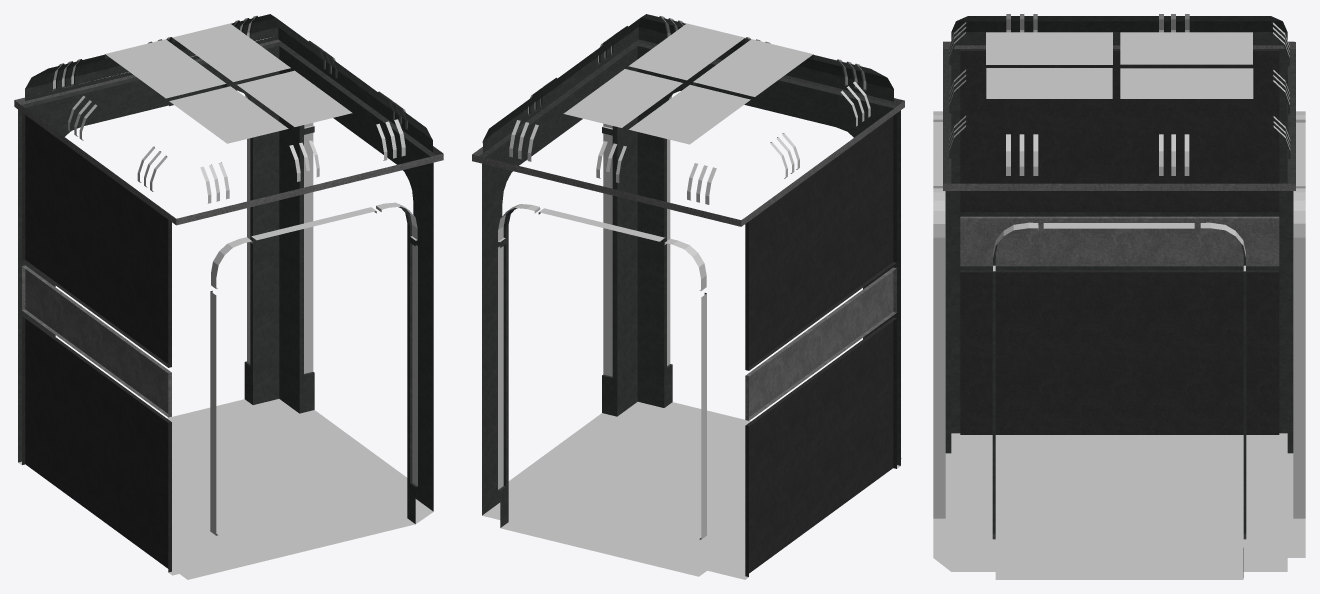
The model's file is ThreeWayIntersection.fbx.
3 views of the same model, side by side, from view 1: azimuth 30°, elevation 25°; view 2: azimuth 150°, elevation 25°; view 3: azimuth 270°, elevation 25° (orthographic). The views are drawn at different scales.
Visible parts, largest first — view 1: Cube.005, Cube.017, Cube.023, Cube.012, Cube.030; view 2: Cube.005, Cube.017, Cube.023, Cube.012, Cube.030; view 3: Cube.005, Cube.023, Cube.012, Cube.017, Cube.030.
Part boxes in pixels (<box>): Cube.005: <box>22,112,171,572</box>; Cube.017: <box>18,14,436,535</box>; Cube.023: <box>18,399,433,579</box>; Cube.012: <box>53,16,417,535</box>; Cube.030: <box>14,39,443,417</box>; Cube.005: <box>745,113,896,576</box>; Cube.017: <box>479,14,900,539</box>; Cube.023: <box>482,402,901,579</box>; Cube.012: <box>498,16,870,539</box>; Cube.030: <box>472,39,904,420</box>; Cube.005: <box>960,49,1279,434</box>; Cube.023: <box>933,433,1305,579</box>; Cube.012: <box>933,14,1305,518</box>; Cube.017: <box>943,16,1295,577</box>; Cube.030: <box>943,41,1295,266</box>.
Bounding box in the file's own units: 715 × 996 × 767.
